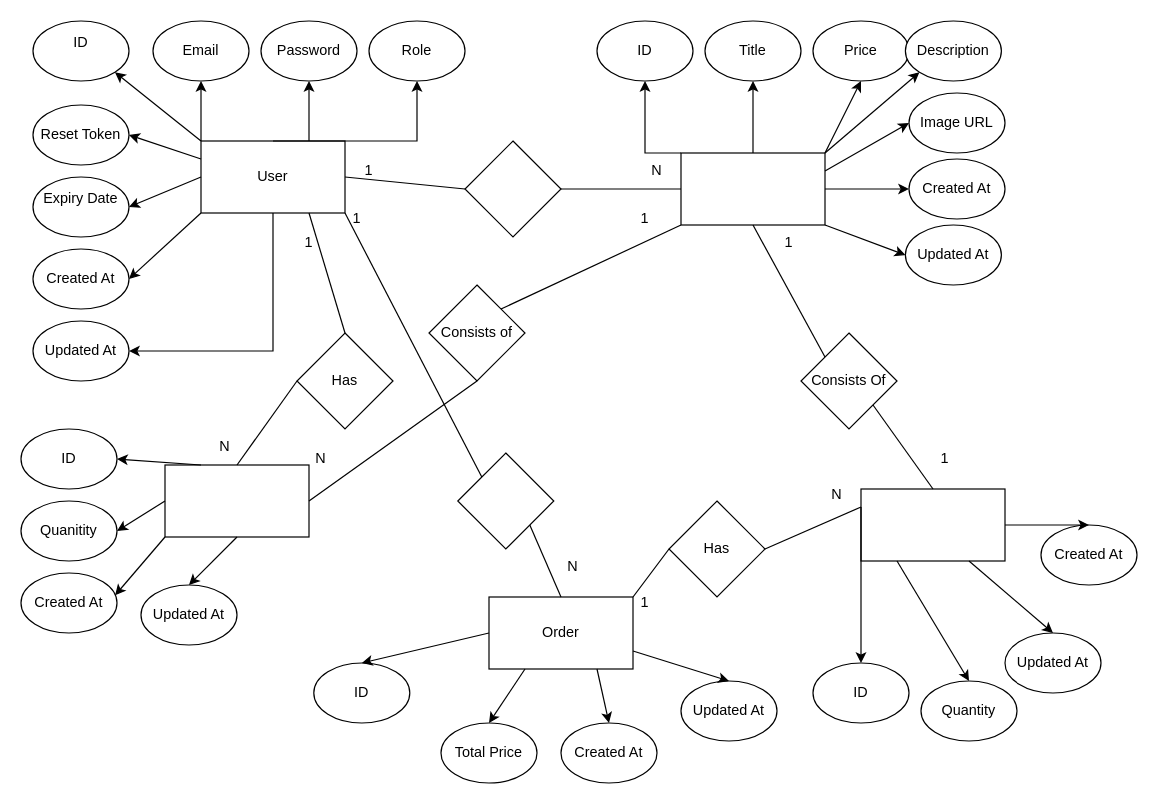
Image size: 1158x804. Some labels were removed from this diagram. Here are the shapes that lost their labels. From the top down, the centre of each, then its label:
point 512,188: Buys
point 752,188: Product
point 236,500: Cart Item
point 505,500: Creates
point 932,524: Order Item
